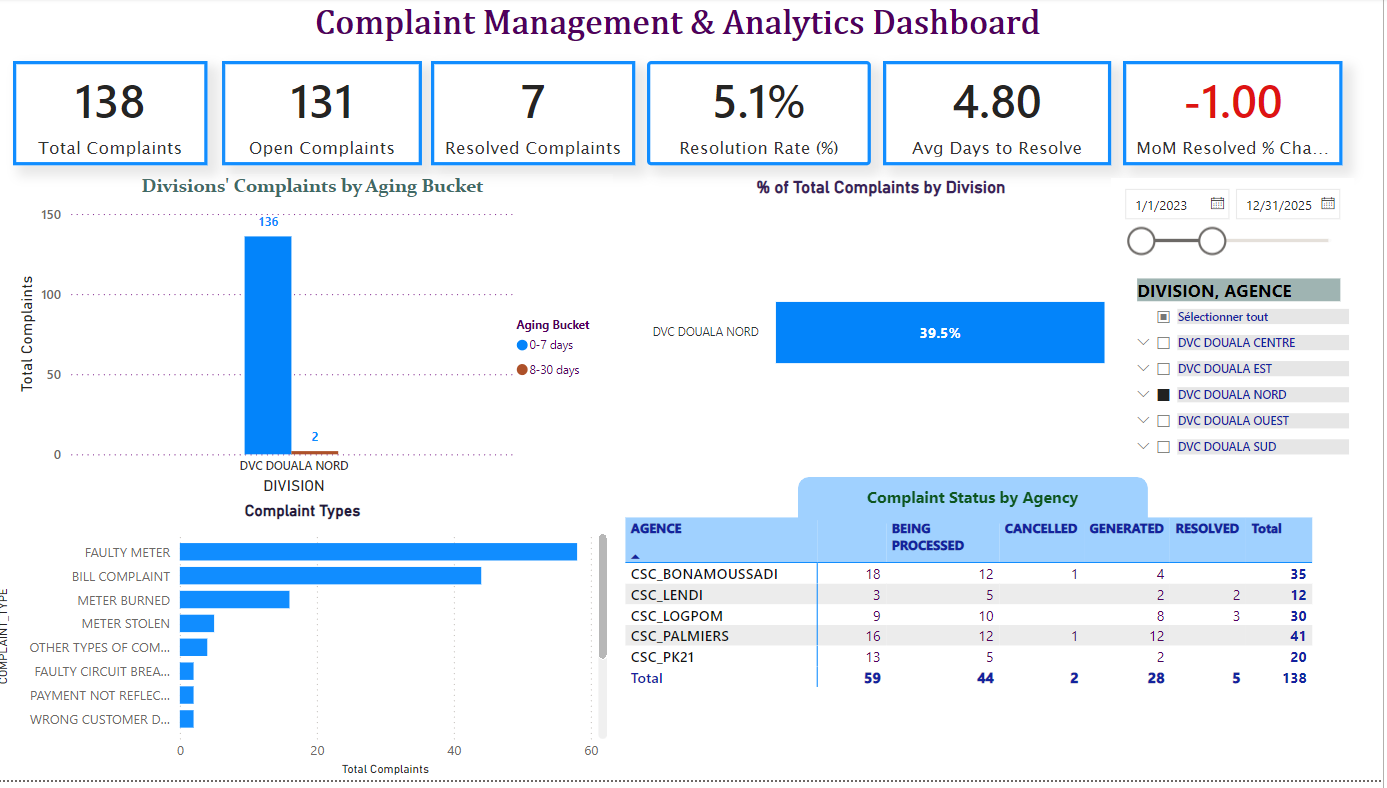

The dashboard page shown, as its layout file describes it:
{"tool":"powerbi","page":{"name":"Dashboard","canvas":[1280,720],"ordinal":0},"visuals":[{"type":"group","id":"g1","title":"Groupe 1","box":[0,0,1253.3,719.6],"z":0},{"type":"card","fields":{"Values":["INSTANCE RECLAMATION.Open Complaints"]},"box":[211.6,57.9,184,96.1],"z":0,"group":"g1"},{"type":"card","fields":{"Values":["INSTANCE RECLAMATION.RESOLVED COMPLAINTS"]},"box":[404,57.9,187.7,96.1],"z":1000,"group":"g1"},{"type":"shape","box":[741.7,440.8,322.1,39.6],"z":1000},{"type":"card","fields":{"Values":["INSTANCE RECLAMATION.Resolution Rate (%)"]},"box":[602.7,57.9,206.1,96.1],"z":2000,"group":"g1"},{"type":"textbox","box":[763.8,443.5,277,39.6],"z":2000},{"type":"card","fields":{"Values":["INSTANCE RECLAMATION.Avg Days to Resolve"]},"box":[819.9,57.9,209.8,96.1],"z":3000,"group":"g1"},{"type":"funnel","title":"% of Total Complaints by Division","fields":{"Category":["INSTANCE RECLAMATION.DIVISION"],"Y":["INSTANCE RECLAMATION.% of Total Complaints"]},"box":[591.9,164.8,441.5,267.8],"z":4000,"group":"g1"},{"type":"clusteredColumnChart","title":"Divisions'' Complaints by Aging Bucket ","fields":{"Y":["INSTANCE RECLAMATION.Total Complaints"],"Category":["INSTANCE RECLAMATION.DIVISION"],"Series":["INSTANCE RECLAMATION.Aging Bucket"]},"box":[18.4,162.4,553,299.6],"z":5000,"group":"g1"},{"type":"card","fields":{"Values":["INSTANCE RECLAMATION.Total Complaints"]},"box":[19.3,57.9,178.5,96.1],"z":6000,"group":"g1"},{"type":"clusteredBarChart","title":"Complaint Types","fields":{"Category":["INSTANCE RECLAMATION.COMPLAINT_TYPE"],"Y":["INSTANCE RECLAMATION.Total Complaints"]},"box":[0,463.9,571.4,255.7],"z":7000,"group":"g1"},{"type":"card","fields":{"Values":["INSTANCE RECLAMATION.MoM Resolved % Change"]},"box":[1040.7,57.9,202.4,96.1],"z":8000,"group":"g1"},{"type":"textbox","box":[18.4,0,1224.8,49.5],"z":10000,"group":"g1"},{"type":"slicer","fields":{"Values":["INSTANCE RECLAMATION.DIVISION","INSTANCE RECLAMATION.AGENCE"]},"box":[1040.7,252.9,212.6,179.2],"z":11000,"group":"g1"},{"type":"slicer","fields":{"Values":["DateTable.Date"]},"box":[1029.7,165.2,223.6,87.7],"z":12000,"group":"g1"},{"type":"pivotTable","fields":{"Rows":["INSTANCE RECLAMATION.AGENCE"],"Values":["INSTANCE RECLAMATION.Total Complaints"],"Columns":["INSTANCE RECLAMATION.COMPLAINT_SERVICE_ORDER_STATUS"]},"box":[577.9,473,675.4,246.6],"z":13000,"group":"g1"}]}

Visuals, with their boxes in screenshot pixels (x1, y1, x2, y2), scaled from the page's 1280x720 canvas onto the 1387x788 screenshot:
"Groupe 1" group: {"left": 0, "top": 0, "right": 1358, "bottom": 787}
card - INSTANCE RECLAMATION.Open Complaints: {"left": 229, "top": 63, "right": 429, "bottom": 169}
card - INSTANCE RECLAMATION.RESOLVED COMPLAINTS: {"left": 438, "top": 63, "right": 641, "bottom": 169}
shape: {"left": 804, "top": 482, "right": 1153, "bottom": 526}
card - INSTANCE RECLAMATION.Resolution Rate (%): {"left": 653, "top": 63, "right": 876, "bottom": 169}
textbox: {"left": 828, "top": 485, "right": 1128, "bottom": 529}
card - INSTANCE RECLAMATION.Avg Days to Resolve: {"left": 888, "top": 63, "right": 1116, "bottom": 169}
"% of Total Complaints by Division" funnel: {"left": 641, "top": 180, "right": 1120, "bottom": 473}
"Divisions'' Complaints by Aging Bucket " clusteredColumnChart: {"left": 20, "top": 178, "right": 619, "bottom": 506}
card - INSTANCE RECLAMATION.Total Complaints: {"left": 21, "top": 63, "right": 214, "bottom": 169}
"Complaint Types" clusteredBarChart: {"left": 0, "top": 508, "right": 619, "bottom": 787}
card - INSTANCE RECLAMATION.MoM Resolved % Change: {"left": 1128, "top": 63, "right": 1347, "bottom": 169}
textbox: {"left": 20, "top": 0, "right": 1347, "bottom": 54}
slicer - INSTANCE RECLAMATION.DIVISION x INSTANCE RECLAMATION.AGENCE: {"left": 1128, "top": 277, "right": 1358, "bottom": 473}
slicer - DateTable.Date: {"left": 1116, "top": 181, "right": 1358, "bottom": 277}
pivotTable - INSTANCE RECLAMATION.AGENCE x INSTANCE RECLAMATION.Total Complaints: {"left": 626, "top": 518, "right": 1358, "bottom": 787}
